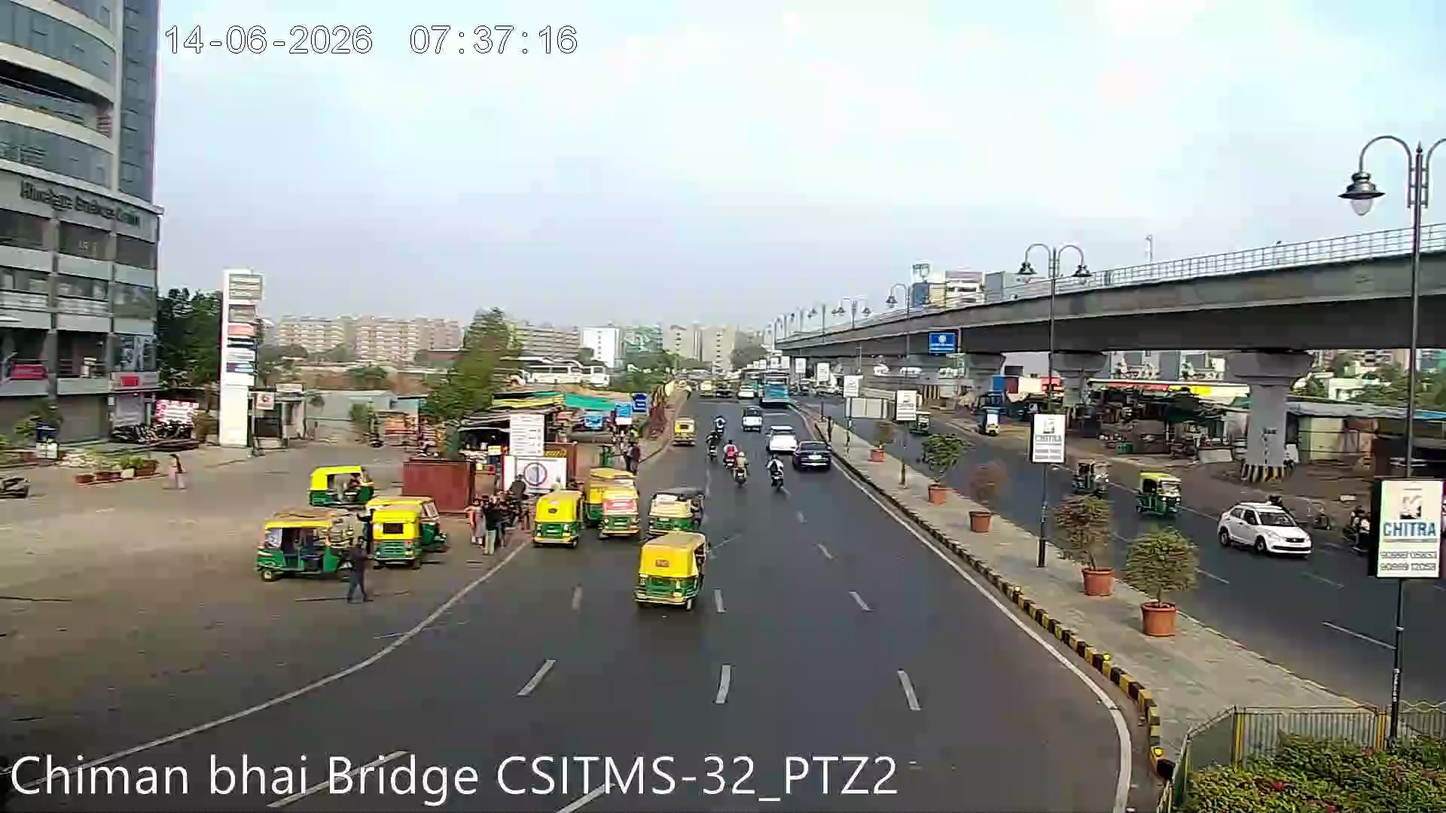auto_rickshaw: (254, 505, 357, 582), (368, 493, 444, 562), (636, 533, 707, 605), (306, 458, 373, 507), (585, 476, 642, 528), (530, 492, 582, 546), (1134, 465, 1185, 518), (595, 480, 643, 533), (648, 487, 703, 530), (795, 438, 833, 471), (673, 413, 696, 445)
car: (1216, 493, 1312, 556)
pedestrian: (345, 554, 369, 608)
two_wheeler: (729, 443, 750, 489), (768, 454, 788, 496), (731, 451, 751, 492)
